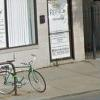Bicycle: (1, 57, 47, 97)
